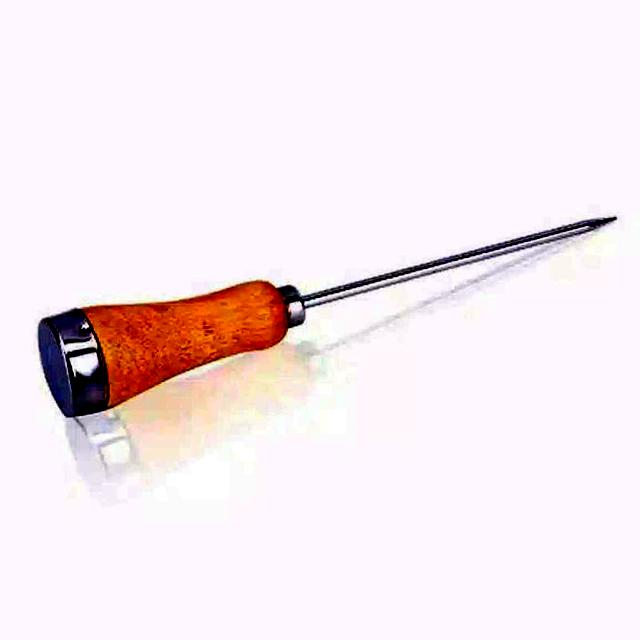ice pick: (67, 218, 617, 490), (35, 214, 619, 420)
